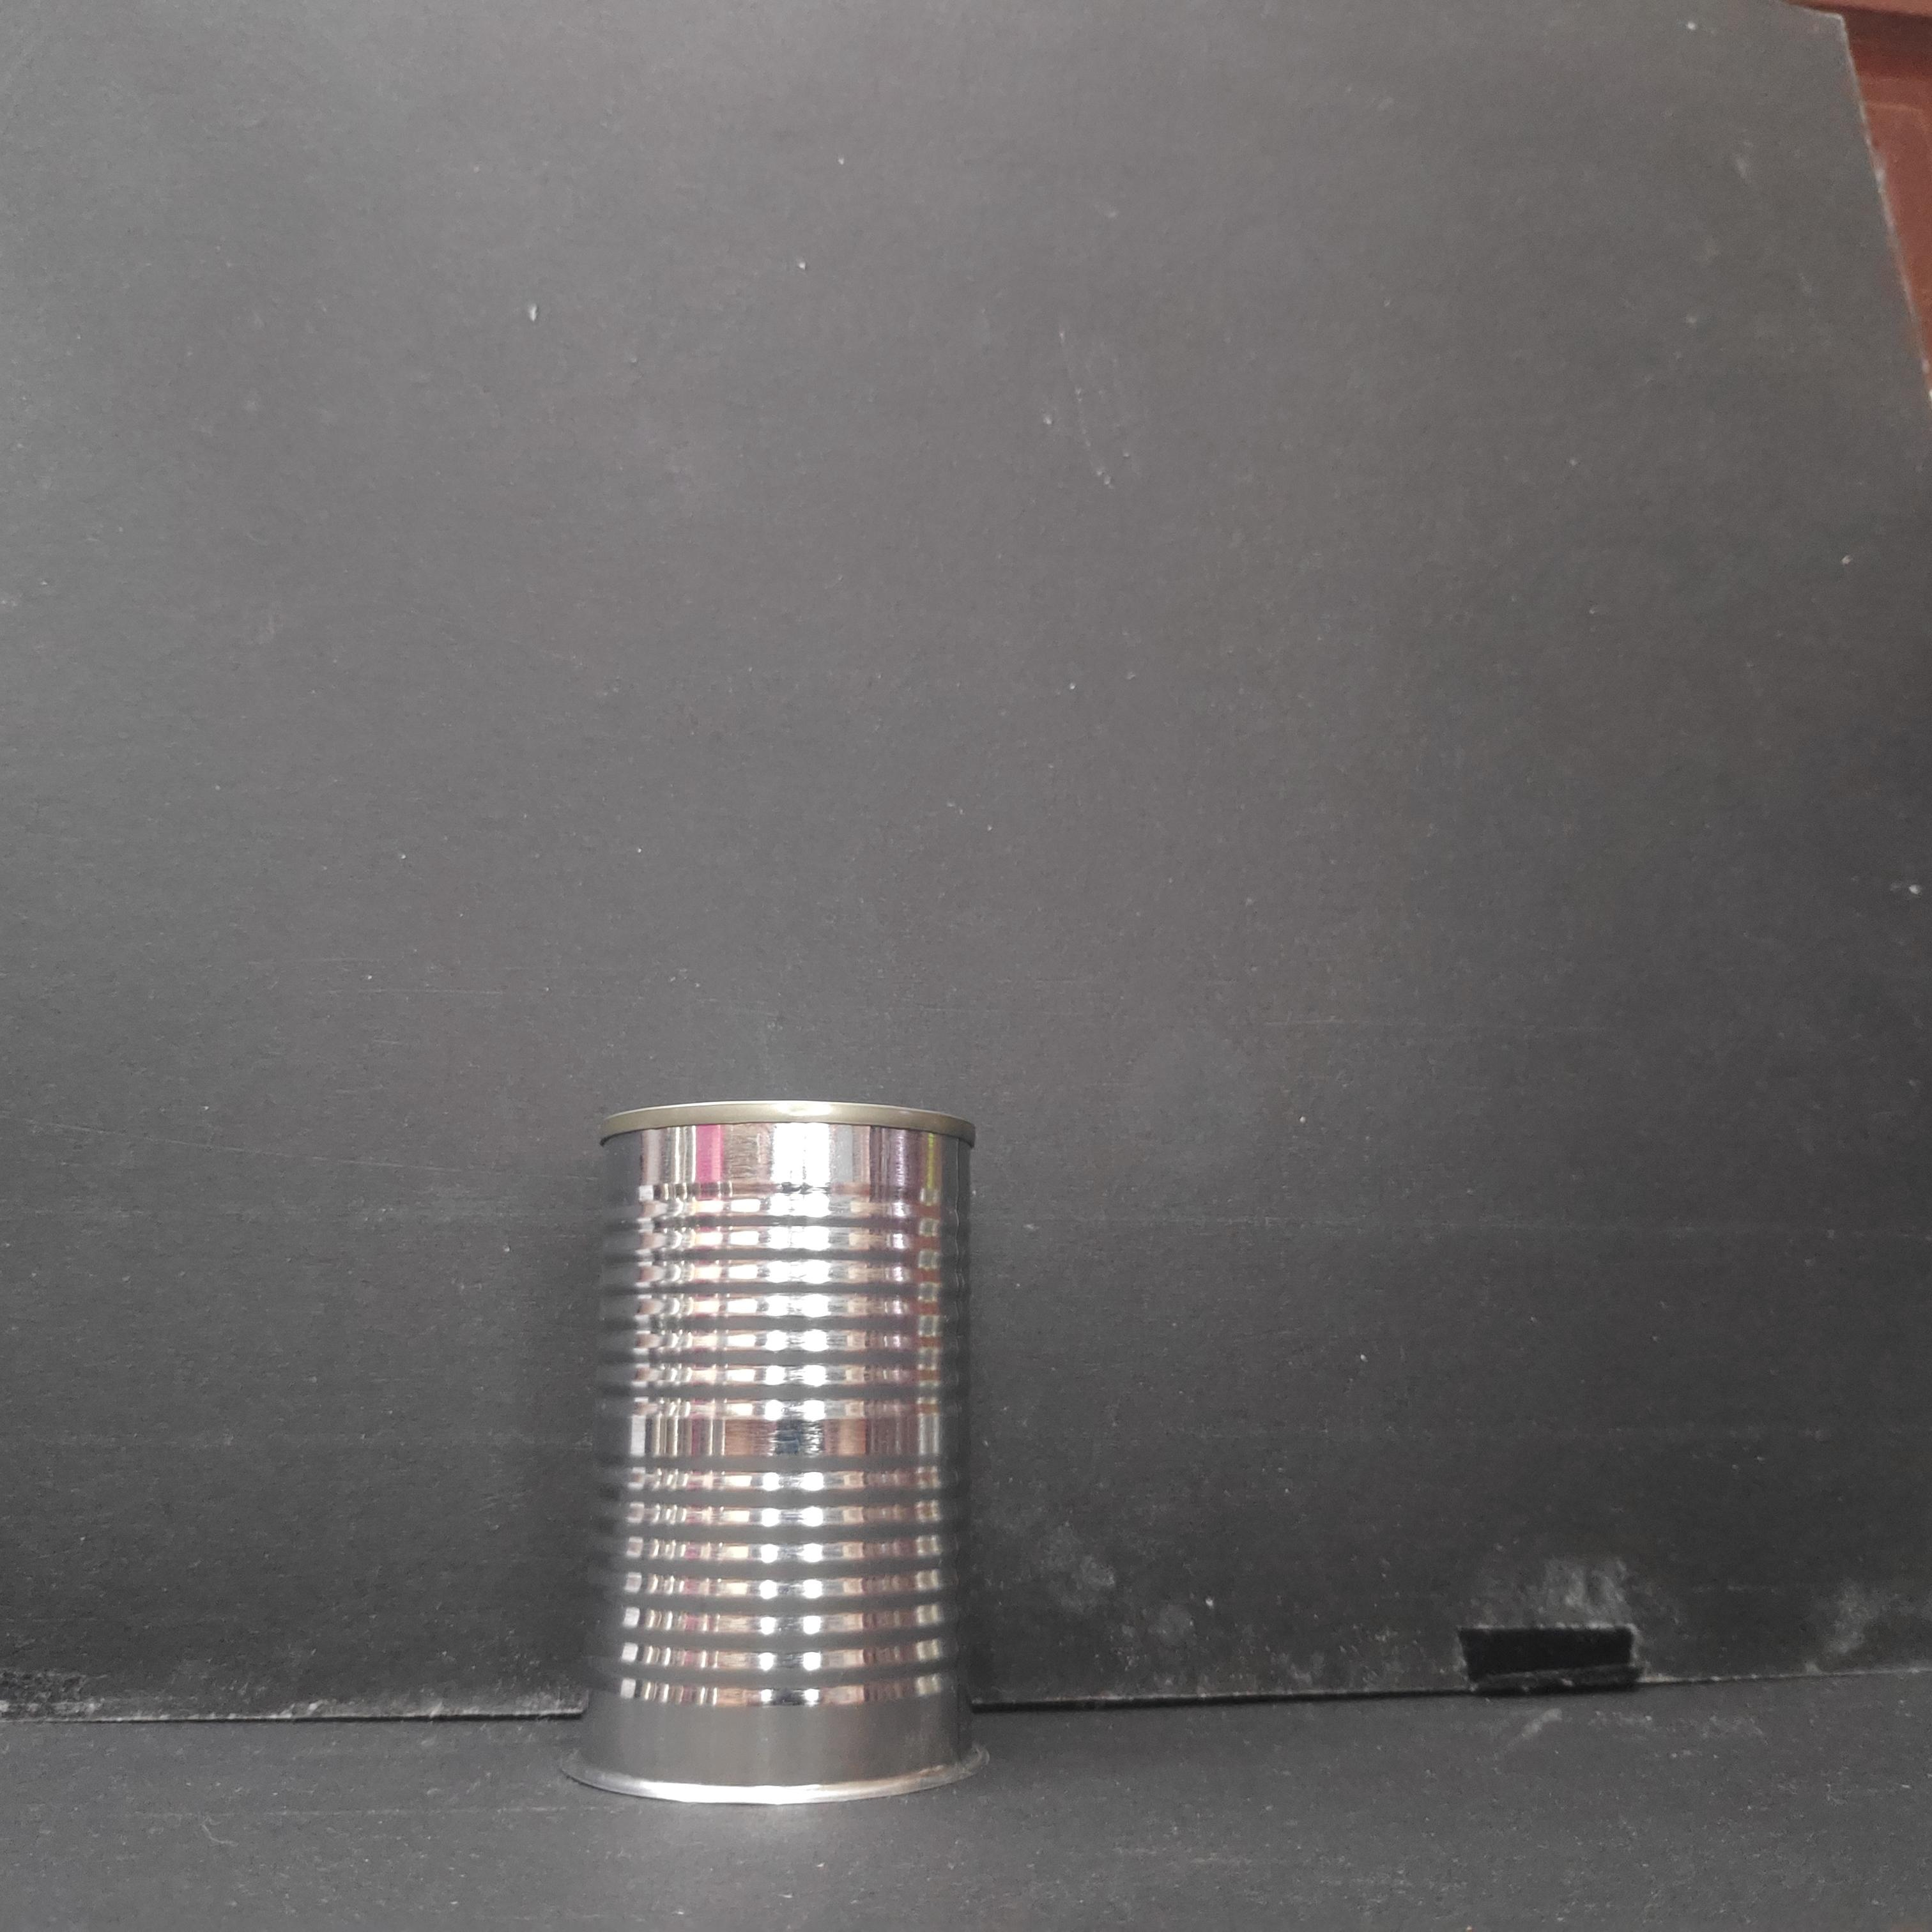No defect: (559, 1099, 993, 1806)
